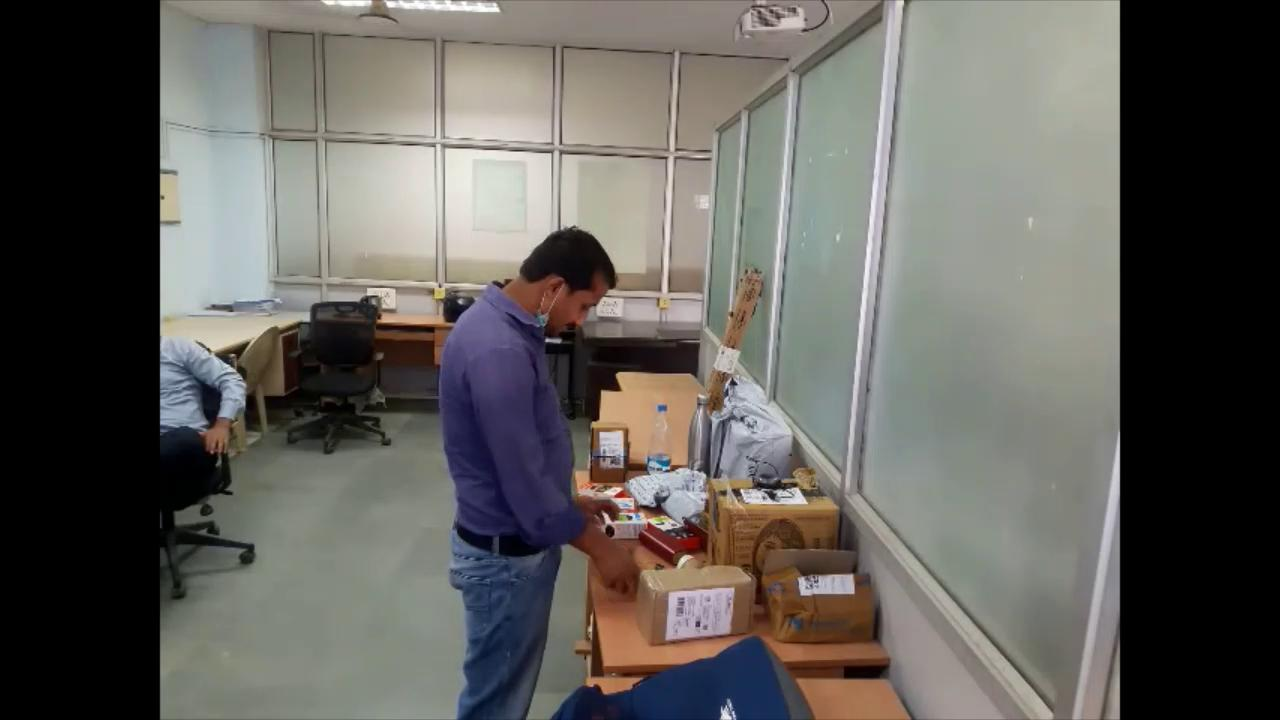Normal: (420, 199, 657, 720)
